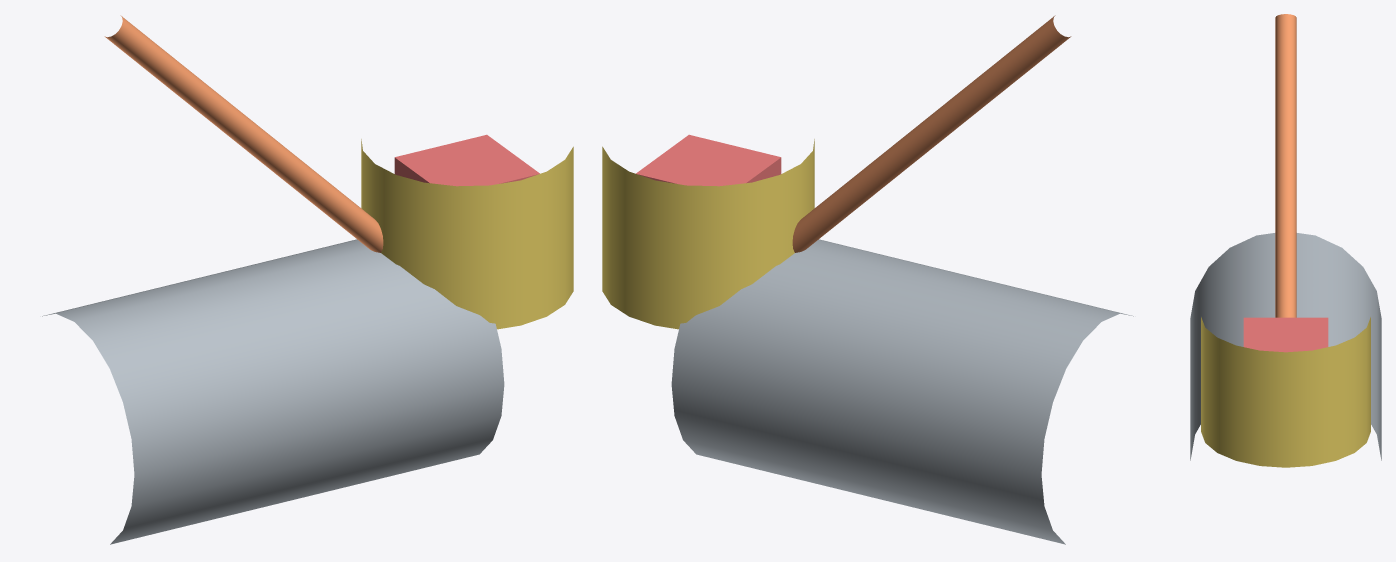
File: electric_traction_heating.glb
3 views of the same model, side by side, from view 1: azimuth 30°, elevation 25°; view 2: azimuth 150°, elevation 25°; view 3: azimuth 270°, elevation 25° (orthographic). The views are drawn at different scales.
Parts seen in each view (by area): view 1: TractionWheelBogieAxle, InductionHeatingCoil, LocomotivePantographArm, DielectricHeatedWorkpiece; view 2: TractionWheelBogieAxle, InductionHeatingCoil, LocomotivePantographArm, DielectricHeatedWorkpiece; view 3: InductionHeatingCoil, TractionWheelBogieAxle, LocomotivePantographArm, DielectricHeatedWorkpiece.
Part boxes in pixels (left/top/right/bottom): TractionWheelBogieAxle: left=42, top=239, right=504, bottom=544; InductionHeatingCoil: left=361, top=139, right=573, bottom=329; LocomotivePantographArm: left=104, top=15, right=383, bottom=252; DielectricHeatedWorkpiece: left=394, top=134, right=539, bottom=186; TractionWheelBogieAxle: left=671, top=239, right=1133, bottom=544; InductionHeatingCoil: left=602, top=139, right=814, bottom=329; LocomotivePantographArm: left=792, top=15, right=1071, bottom=252; DielectricHeatedWorkpiece: left=636, top=134, right=781, bottom=186; InductionHeatingCoil: left=1201, top=317, right=1370, bottom=467; TractionWheelBogieAxle: left=1190, top=233, right=1381, bottom=460; LocomotivePantographArm: left=1275, top=14, right=1296, bottom=317; DielectricHeatedWorkpiece: left=1243, top=317, right=1328, bottom=352.
Size of the model in its own units: 2.1 by 2.12 by 0.9.
